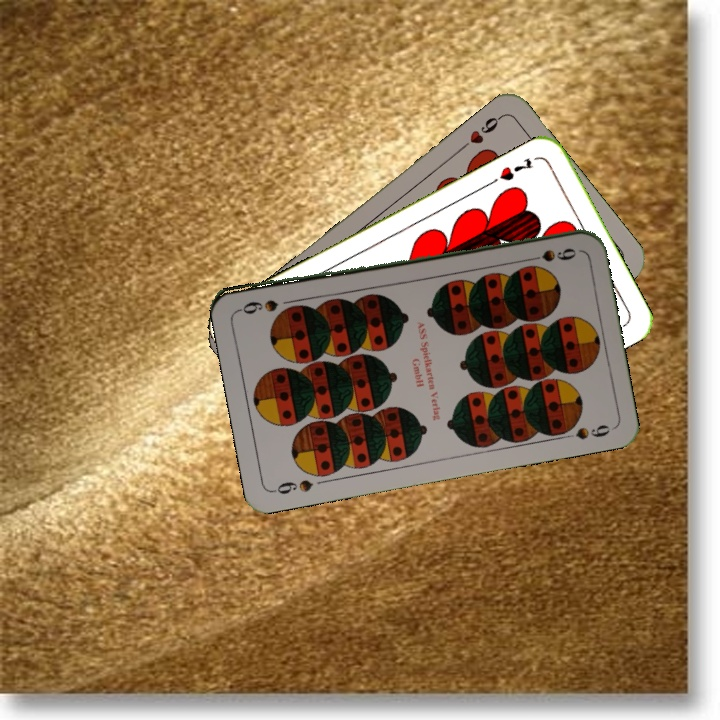H7: (495, 153, 536, 184)
H9: (456, 111, 505, 153)
S9: (521, 244, 579, 265), (269, 475, 316, 497)
